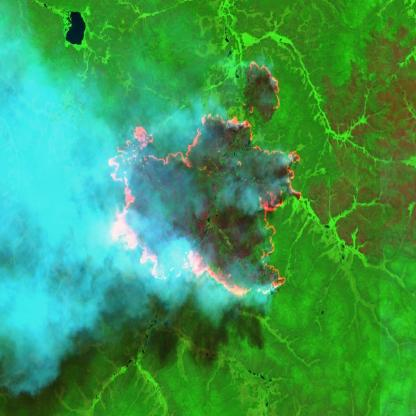fire: (110, 54, 303, 301)
